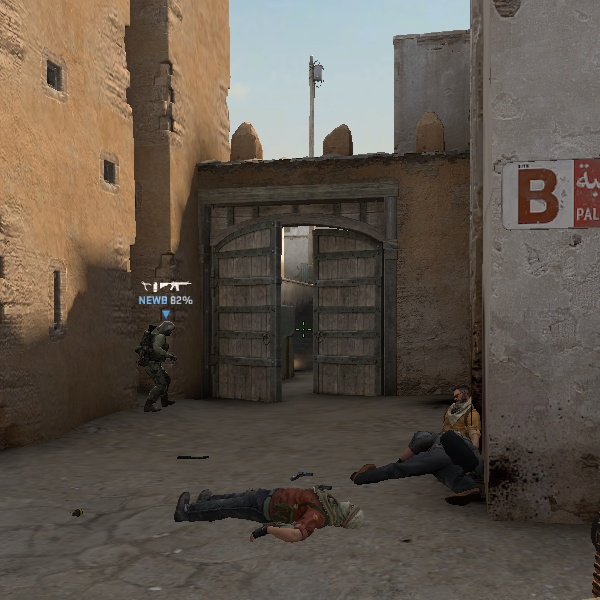ct_body: (132, 318, 186, 412)
ct_head: (155, 319, 179, 342)
